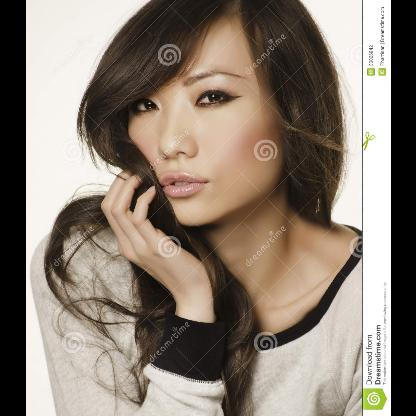Female: (124, 5, 286, 223)
